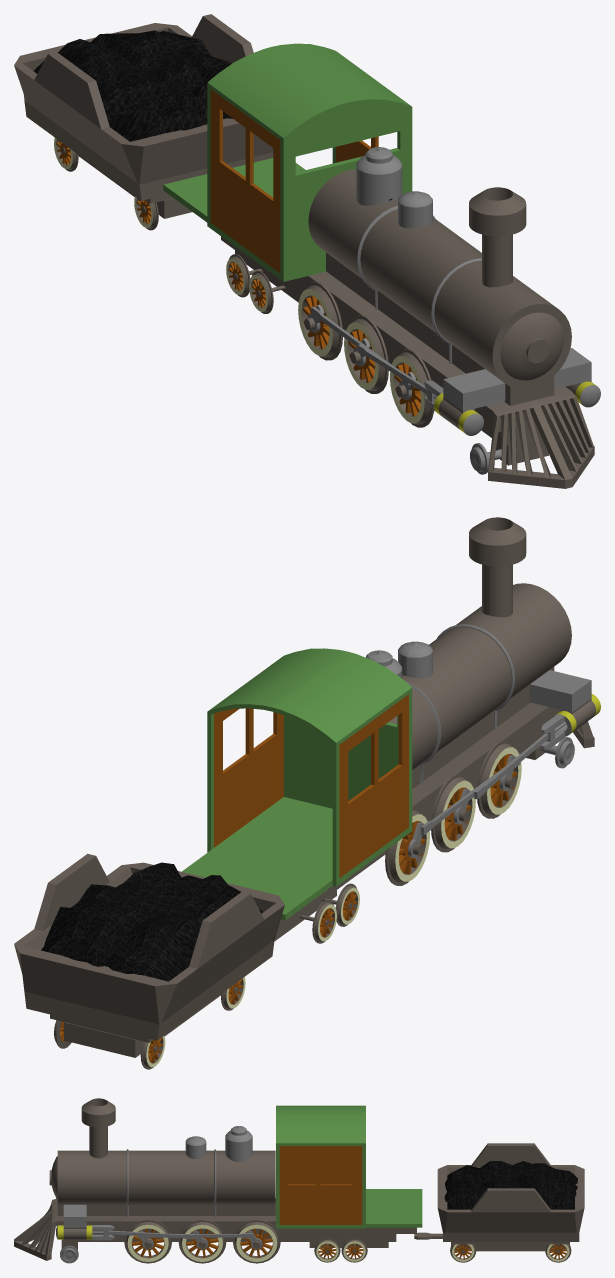
Rendered from trainEngine.obj.
The picture shows the model from 3 angles, top to bottom: view 1: azimuth 30°, elevation 25°; view 2: azimuth 150°, elevation 25°; view 3: azimuth 270°, elevation 25°; orthographic projection. The views are drawn at different scales.
Parts seen in each view (by area): view 1: Cube.002, Cube.006_Cube.007, Cube.003, Cube.001, Cube.004; view 2: Cube.002, Cube.006_Cube.007, Cube.003, Cube.001, Cube.004; view 3: Cube.002, Cube.006_Cube.007, Cube.001, Cube.003, Cube.004.
Part boxes in pixels (left/top/right/bottom): Cube.002: left=163, top=43, right=600, bottom=488; Cube.006_Cube.007: left=14, top=14, right=273, bottom=218; Cube.003: left=33, top=30, right=232, bottom=141; Cube.001: left=226, top=254, right=501, bottom=474; Cube.004: left=54, top=138, right=158, bottom=230; Cube.002: left=182, top=517, right=600, bottom=941; Cube.006_Cube.007: left=14, top=853, right=284, bottom=1057; Cube.003: left=41, top=862, right=263, bottom=981; Cube.001: left=299, top=737, right=574, bottom=943; Cube.004: left=54, top=977, right=245, bottom=1069; Cube.002: left=14, top=1098, right=422, bottom=1260; Cube.006_Cube.007: left=414, top=1143, right=584, bottom=1251; Cube.001: left=60, top=1219, right=367, bottom=1263; Cube.003: left=444, top=1161, right=577, bottom=1209; Cube.004: left=450, top=1244, right=571, bottom=1262.
Size of the model in its own units: 4.12 by 6.04 by 21.61.
2 materials, 2 textured.
